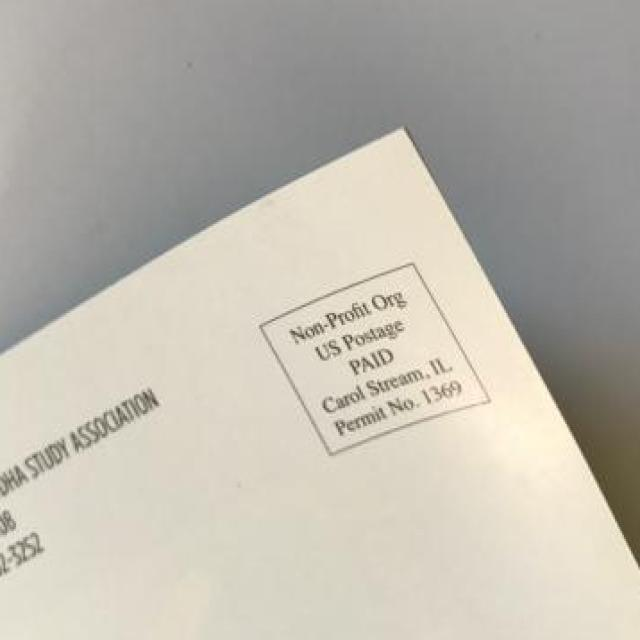organic: (5, 125, 635, 618)
